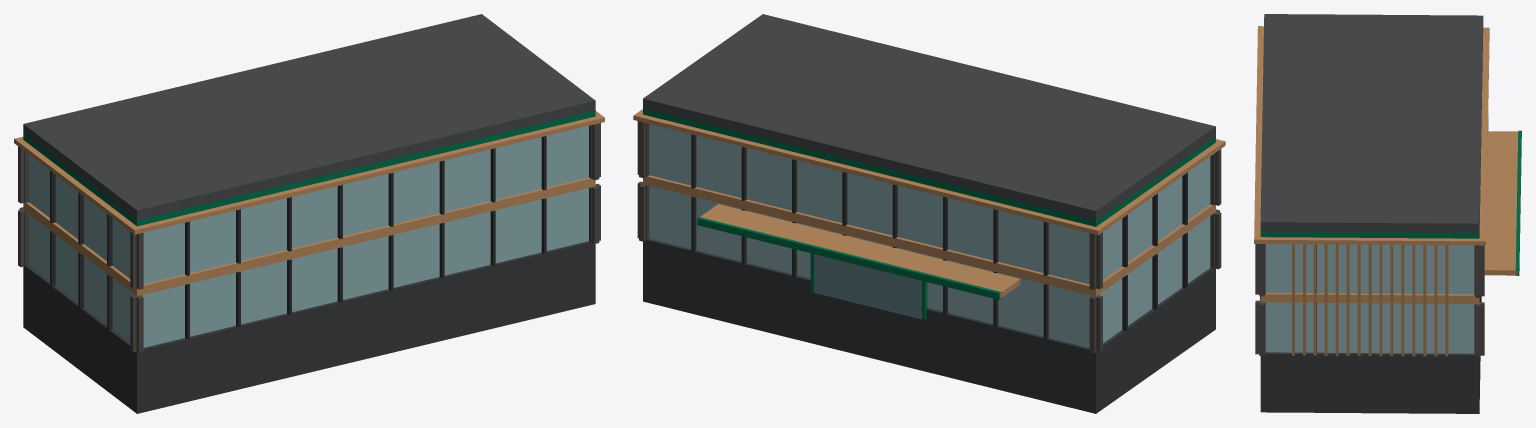
The model's file is starbucks-daying.glb.
3 views of the same model, side by side, from view 1: azimuth 30°, elevation 25°; view 2: azimuth 150°, elevation 25°; view 3: azimuth 270°, elevation 25° (orthographic). The views are drawn at different scales.
Visible parts, largest first — view 1: starbucks-daying; view 2: starbucks-daying; view 3: starbucks-daying.
Part boxes in pixels (<box>): starbucks-daying: <box>14,14,604,413</box>; starbucks-daying: <box>633,14,1225,413</box>; starbucks-daying: <box>1254,14,1521,413</box>.
Bounding box in the file's own units: 27.91 × 11.5 × 14.67.
